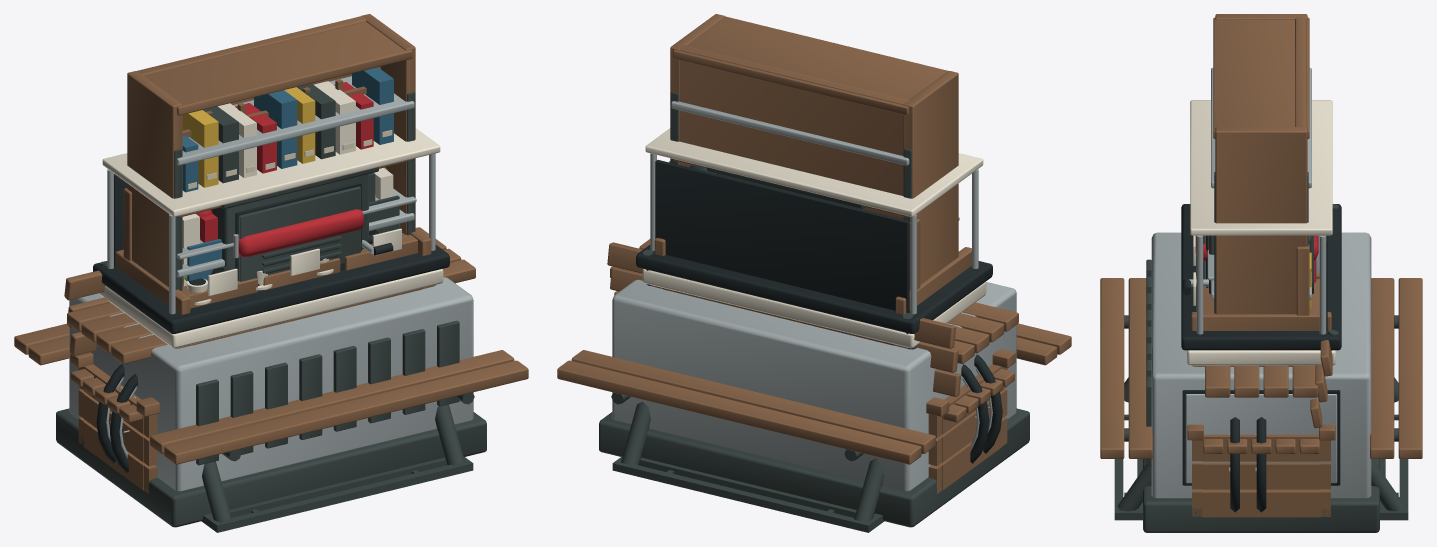
The model's file is street-props.glb.
3 renders of one model, left to right at view 1: azimuth 30°, elevation 25°; view 2: azimuth 150°, elevation 25°; view 3: azimuth 270°, elevation 25°, orthographic.
Parts seen in each view (by area): view 1: Prop_hvac__Prop_Zinc, Prop_bookshelf__Prop_Cedar, Prop_hvac__Prop_Iron, Prop_picnic__Prop_Cedar, Prop_bakerycase__Prop_Lettering, Prop_utilitycabinet__Prop_Iron, Prop_coffeecounter__Prop_Recess, Prop_treegrate__Prop_Iron, Prop_timberplanter__Prop_Cedar, Prop_hardware__Prop_Zinc, Prop_bookshelf__Prop_RecyclingBlue, Prop_bookshelf__Prop_Lettering (+17 smaller); view 2: Prop_bookshelf__Prop_Cedar, Prop_hvac__Prop_Zinc, Prop_bakerycase__Prop_Recess, Prop_picnic__Prop_Cedar, Prop_hvac__Prop_Iron, Prop_bakerycase__Prop_Lettering, Prop_coffeecounter__Prop_Recess, Prop_treegrate__Prop_Iron, Prop_bench__Prop_Cedar, Prop_timberplanter__Prop_Cedar, Prop_picnic__Prop_Iron, Prop_hardware__Prop_Zinc (+6 smaller); view 3: Prop_bookshelf__Prop_Cedar, Prop_hvac__Prop_Zinc, Prop_picnic__Prop_Cedar, Prop_bakerycase__Prop_Lettering, Prop_timberplanter__Prop_Cedar, Prop_hvac__Prop_Iron, Prop_coffeecounter__Prop_Recess, Prop_bench__Prop_Cedar, Prop_recordbin__Prop_Cedar, Prop_picnic__Prop_Iron, Prop_treegrate__Prop_Iron, Prop_bakerycase__Prop_Zinc (+6 smaller).
Part boxes in pixels (<box>): Prop_hvac__Prop_Zinc: <box>69,277,473,491</box>; Prop_bookshelf__Prop_Cedar: <box>127,14,415,289</box>; Prop_hvac__Prop_Iron: <box>56,320,486,527</box>; Prop_picnic__Prop_Cedar: <box>14,227,528,464</box>; Prop_bakerycase__Prop_Lettering: <box>100,128,443,348</box>; Prop_utilitycabinet__Prop_Iron: <box>211,167,378,283</box>; Prop_coffeecounter__Prop_Recess: <box>93,245,449,333</box>; Prop_treegrate__Prop_Iron: <box>202,456,473,532</box>; Prop_timberplanter__Prop_Cedar: <box>70,352,159,493</box>; Prop_hardware__Prop_Zinc: <box>176,76,414,277</box>; Prop_bookshelf__Prop_RecyclingBlue: <box>182,67,393,192</box>; Prop_bookshelf__Prop_Lettering: <box>182,81,393,286</box>; Prop_bookshelf__Prop_Cedar: <box>670,14,958,284</box>; Prop_hvac__Prop_Zinc: <box>612,279,1016,491</box>; Prop_bakerycase__Prop_Recess: <box>655,160,909,312</box>; Prop_picnic__Prop_Cedar: <box>557,239,1071,464</box>; Prop_hvac__Prop_Iron: <box>599,408,1029,527</box>; Prop_bakerycase__Prop_Lettering: <box>642,128,986,348</box>; Prop_coffeecounter__Prop_Recess: <box>636,245,992,333</box>; Prop_treegrate__Prop_Iron: <box>612,456,883,532</box>; Prop_bench__Prop_Cedar: <box>607,242,1014,422</box>; Prop_timberplanter__Prop_Cedar: <box>926,348,1015,493</box>; Prop_picnic__Prop_Iron: <box>611,392,883,522</box>; Prop_hardware__Prop_Zinc: <box>671,101,909,165</box>; Prop_bookshelf__Prop_Cedar: <box>1213,14,1309,314</box>; Prop_hvac__Prop_Zinc: <box>1151,232,1371,498</box>; Prop_picnic__Prop_Cedar: <box>1100,278,1422,458</box>; Prop_bakerycase__Prop_Lettering: <box>1187,100,1335,365</box>; Prop_timberplanter__Prop_Cedar: <box>1187,424,1335,517</box>; Prop_hvac__Prop_Iron: <box>1143,259,1379,532</box>; Prop_coffeecounter__Prop_Recess: <box>1181,204,1341,350</box>; Prop_bench__Prop_Cedar: <box>1203,340,1332,453</box>; Prop_recordbin__Prop_Cedar: <box>1191,312,1331,330</box>; Prop_picnic__Prop_Iron: <box>1117,315,1405,511</box>; Prop_treegrate__Prop_Iron: <box>1114,414,1408,520</box>; Prop_bakerycase__Prop_Zinc: <box>1196,235,1326,334</box>.
Size of the model in its own units: 1.85 by 2.07 by 1.47.
